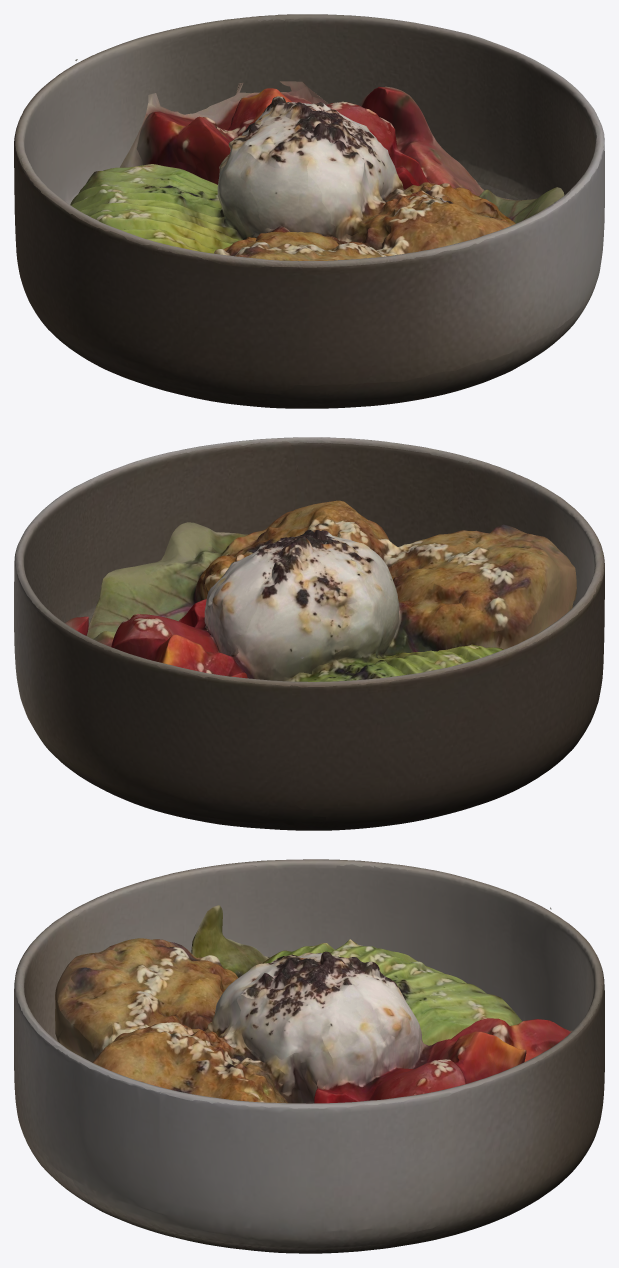
Rendered from set.bowle.with.crispy.001.glb.
The picture shows the model from 3 angles, top to bottom: view 1: azimuth 30°, elevation 25°; view 2: azimuth 150°, elevation 25°; view 3: azimuth 270°, elevation 25°; orthographic projection.
Parts seen in each view (by area): view 1: /Root/Scenes/Scene/Object_37/Object_39/Object_40/Submesh_0, /Root/Scenes/Scene/Object_37/Object_38/Submesh_0; view 2: /Root/Scenes/Scene/Object_37/Object_39/Object_40/Submesh_0, /Root/Scenes/Scene/Object_37/Object_38/Submesh_0; view 3: /Root/Scenes/Scene/Object_37/Object_39/Object_40/Submesh_0, /Root/Scenes/Scene/Object_37/Object_38/Submesh_0.
Part boxes in pixels (left/top/right/bottom): /Root/Scenes/Scene/Object_37/Object_39/Object_40/Submesh_0: left=14, top=14, right=604, bottom=408; /Root/Scenes/Scene/Object_37/Object_38/Submesh_0: left=70, top=59, right=564, bottom=260; /Root/Scenes/Scene/Object_37/Object_39/Object_40/Submesh_0: left=14, top=437, right=604, bottom=830; /Root/Scenes/Scene/Object_37/Object_38/Submesh_0: left=65, top=500, right=576, bottom=681; /Root/Scenes/Scene/Object_37/Object_39/Object_40/Submesh_0: left=14, top=859, right=604, bottom=1253; /Root/Scenes/Scene/Object_37/Object_38/Submesh_0: left=55, top=905, right=572, bottom=1103.
Bounding box in the file's own units: 0.2045 × 0.0747 × 0.2044.
2 materials, 2 textured.
